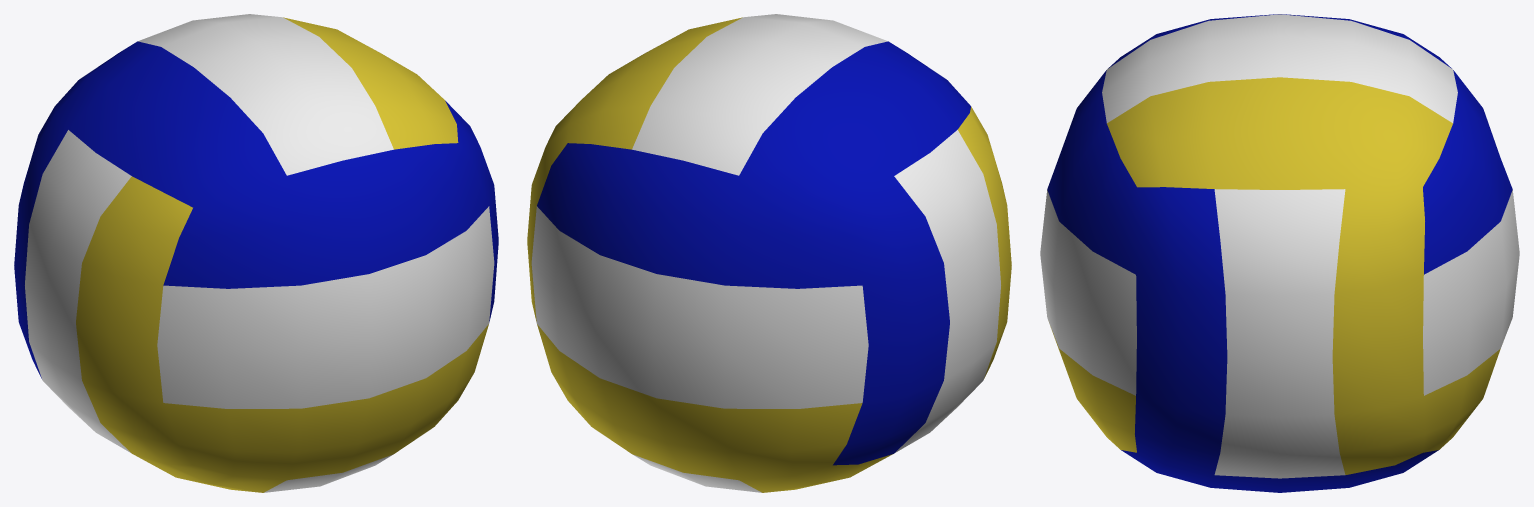
Rendered from volleyball (1).fbx.
3 views of the same model, side by side, from view 1: azimuth 30°, elevation 25°; view 2: azimuth 150°, elevation 25°; view 3: azimuth 270°, elevation 25° (orthographic). The views are drawn at different scales.
Parts seen in each view (by area): view 1: Cube; view 2: Cube; view 3: Cube.
Boxes of the visible parts, box(x1,y1,x2,y2) form: Cube: box(14, 14, 498, 492); Cube: box(527, 14, 1011, 492); Cube: box(1040, 14, 1519, 492).
Bounding box in the file's own units: 243 × 233 × 233.
